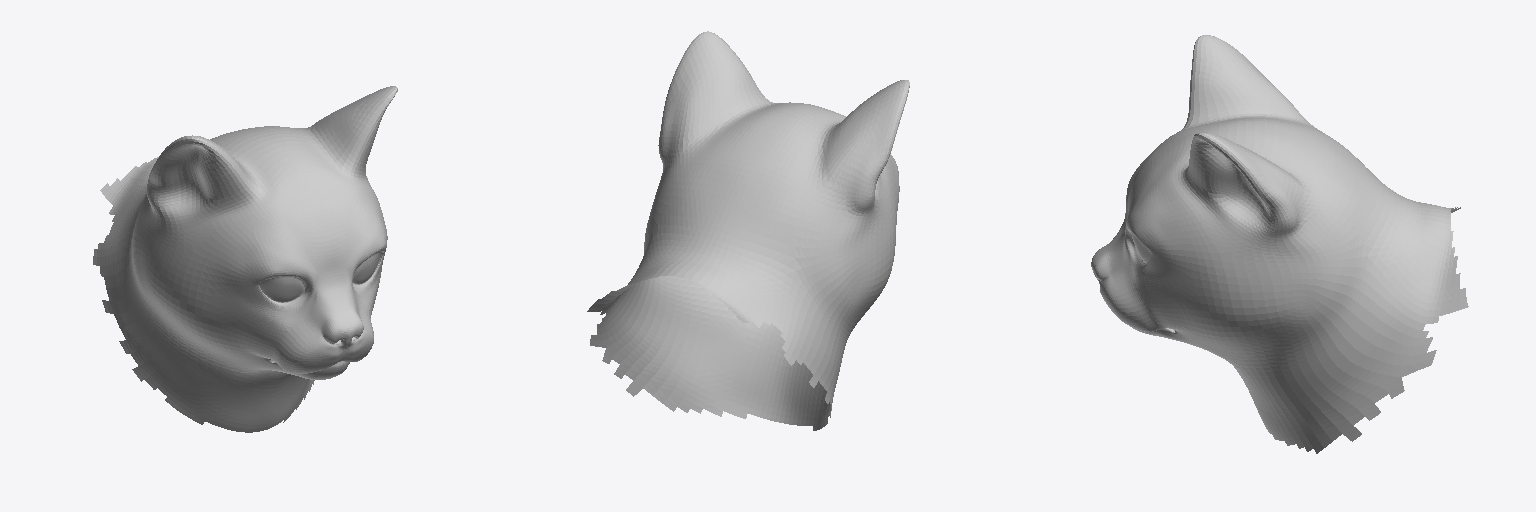
File: head.obj
3 views of the same model, side by side, from view 1: azimuth 30°, elevation 25°; view 2: azimuth 150°, elevation 25°; view 3: azimuth 270°, elevation 25° (orthographic).
Parts seen in each view (by area): view 1: _Cat_v1_l3:Cat; view 2: _Cat_v1_l3:Cat; view 3: _Cat_v1_l3:Cat.
Part boxes in pixels (x1,y1,x2,y2): _Cat_v1_l3:Cat: (93,86,397,432); _Cat_v1_l3:Cat: (587,31,909,430); _Cat_v1_l3:Cat: (1091,35,1468,453).
Size of the model in its own units: 11.3 by 16.57 by 16.54.